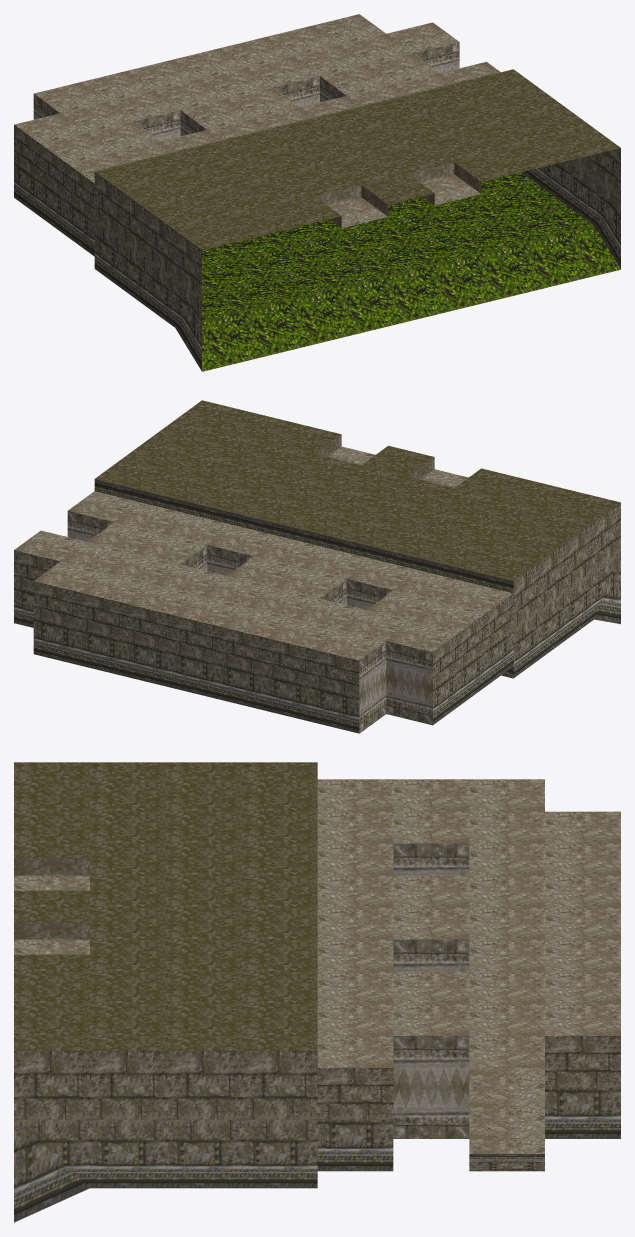
File: room24.obj
3 views of the same model, one above another, from view 1: azimuth 30°, elevation 25°; view 2: azimuth 150°, elevation 25°; view 3: azimuth 270°, elevation 25° (orthographic). The views are drawn at different scales.
Parts seen in each view (by area): view 1: 01-Caves.024; view 2: 01-Caves.024; view 3: 01-Caves.024.
Part boxes in pixels (box(x1,y1,x2,y2)): 01-Caves.024: box(14, 14, 620, 371); 01-Caves.024: box(14, 400, 620, 733); 01-Caves.024: box(14, 762, 620, 1222).
Bounding box in the file's own units: 90 × 25 × 80.
Materials: 1 (1 with a texture image).
